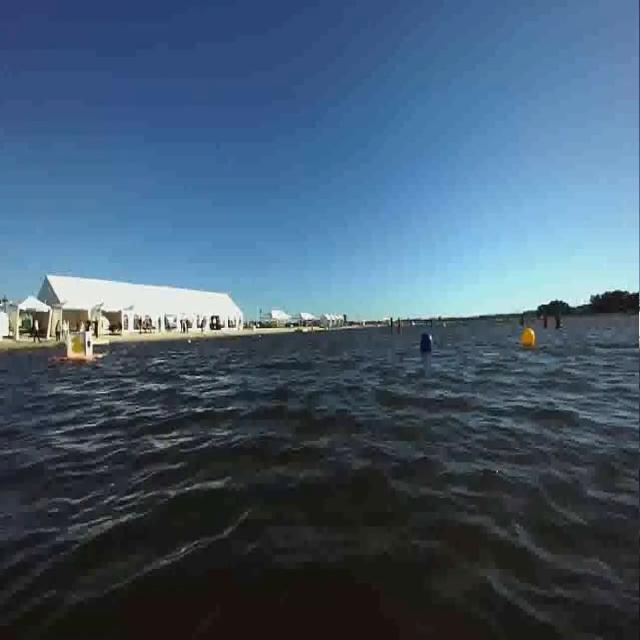blue-buoy: (419, 331, 434, 354)
yellow-buoy: (521, 327, 538, 351)
